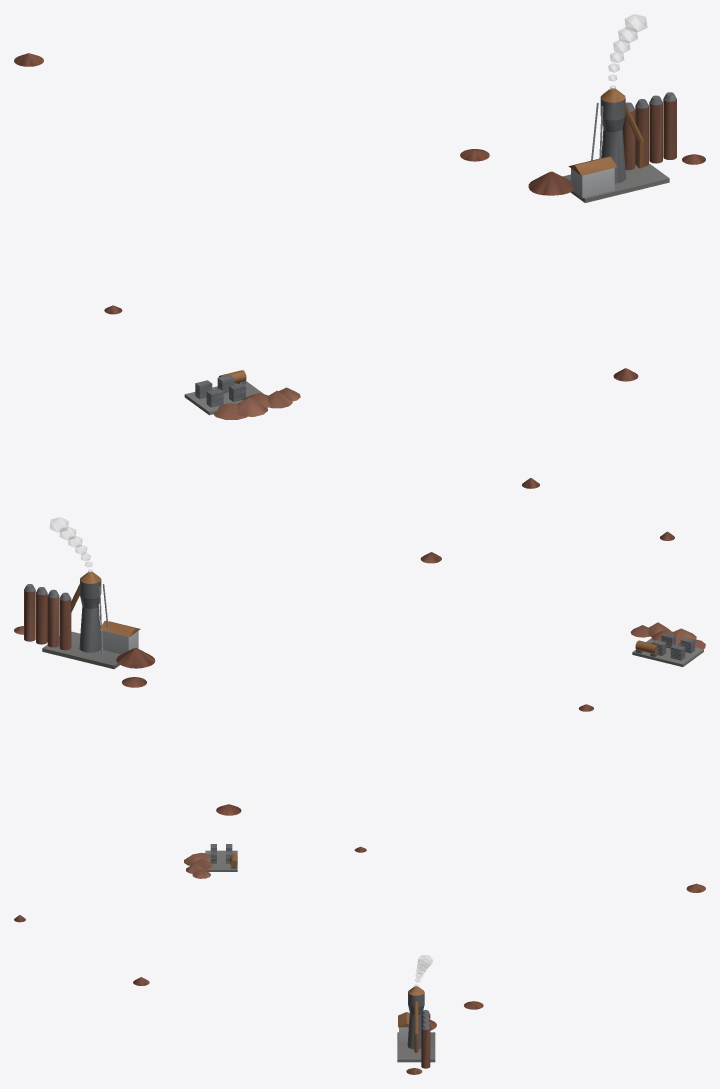
The model's file is Theme_P3.fbx.
The picture shows the model from 3 angles, top to bottom: view 1: azimuth 30°, elevation 25°; view 2: azimuth 150°, elevation 25°; view 3: azimuth 270°, elevation 25°; orthographic projection. The views are drawn at different scales.
Visible parts, largest first — view 1: Theme.BlastFurnace, Theme.IngotYard, Theme.SlagBank, Theme.FurnaceSmoke, Theme.BurdenStock; view 2: Theme.BlastFurnace, Theme.IngotYard, Theme.SlagBank, Theme.FurnaceSmoke, Theme.BurdenStock; view 3: Theme.BlastFurnace, Theme.IngotYard, Theme.SlagBank.
Part boxes in pixels (x1=…): Theme.BlastFurnace: x1=562, y1=88, x2=676, y2=202; Theme.IngotYard: x1=184, y1=370, x2=263, y2=415; Theme.SlagBank: x1=213, y1=387, x2=300, y2=419; Theme.FurnaceSmoke: x1=608, y1=14, x2=647, y2=89; Theme.BurdenStock: x1=528, y1=171, x2=573, y2=195; Theme.BlastFurnace: x1=24, y1=571, x2=140, y2=669; Theme.IngotYard: x1=632, y1=632, x2=703, y2=666; Theme.SlagBank: x1=630, y1=622, x2=705, y2=649; Theme.FurnaceSmoke: x1=50, y1=517, x2=92, y2=572; Theme.BurdenStock: x1=116, y1=648, x2=155, y2=668; Theme.BlastFurnace: x1=397, y1=986, x2=435, y2=1068; Theme.IngotYard: x1=205, y1=844, x2=237, y2=871; Theme.SlagBank: x1=184, y1=852, x2=212, y2=878.
Size of the model in its own units: 26208 by 5982 by 36232.
